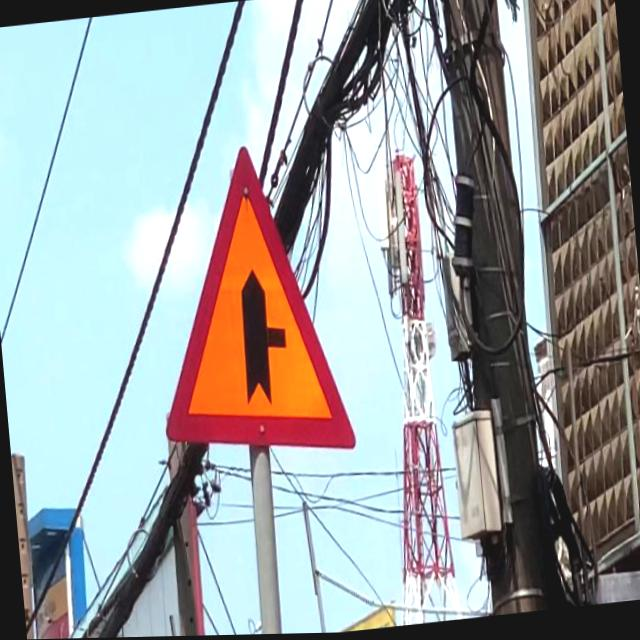Giao nhau voi duong khong uu tien ben phai: (140, 132, 360, 475)
